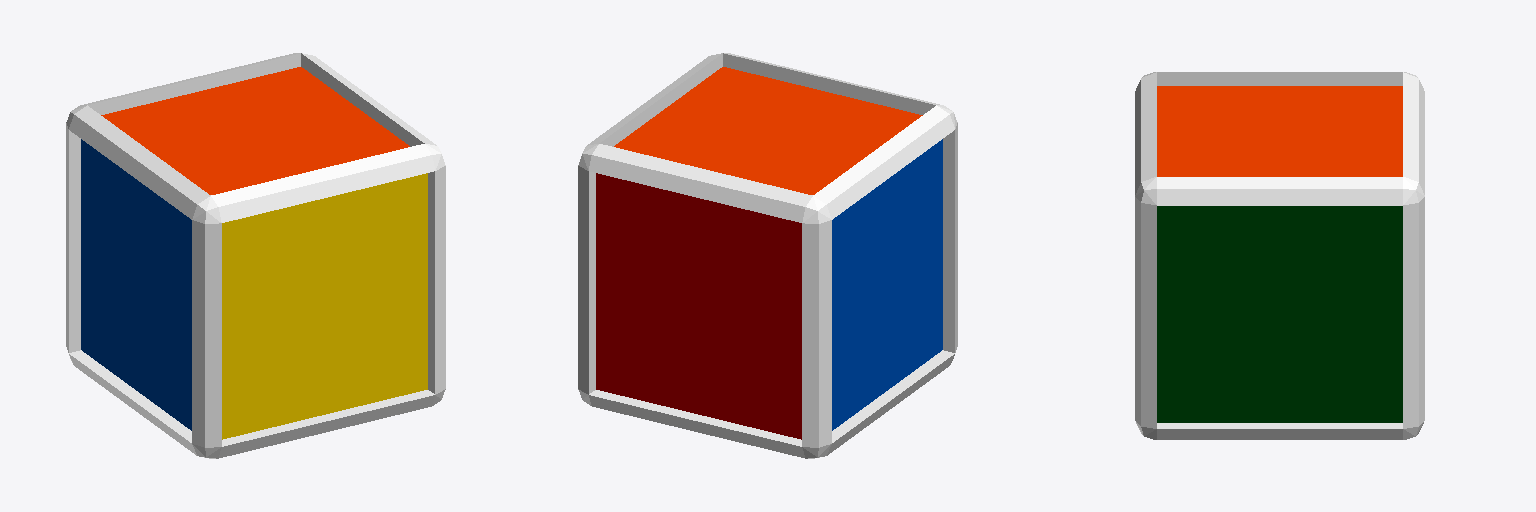
Rendered from Kwadratsep3.obj.
3 renders of one model, left to right at view 1: azimuth 30°, elevation 25°; view 2: azimuth 150°, elevation 25°; view 3: azimuth 270°, elevation 25°, orthographic.
Visible parts, largest first — view 1: Cube.006, Cube.005, Cube.007; view 2: Cube.002, Cube.005, Cube.007; view 3: Cube.003, Cube.007, Cube.002, Cube.006.
Part boxes in pixels (x1,y1,x2,y2): Cube.006: (205, 154, 445, 458); Cube.005: (66, 112, 205, 457); Cube.007: (71, 53, 441, 210); Cube.002: (578, 154, 818, 458); Cube.005: (818, 112, 957, 457); Cube.007: (582, 53, 952, 210); Cube.003: (1141, 189, 1418, 439); Cube.007: (1141, 72, 1418, 189); Cube.002: (1416, 80, 1424, 435); Cube.006: (1135, 80, 1143, 435).
Bounding box in the file's own units: 2 × 2 × 2.